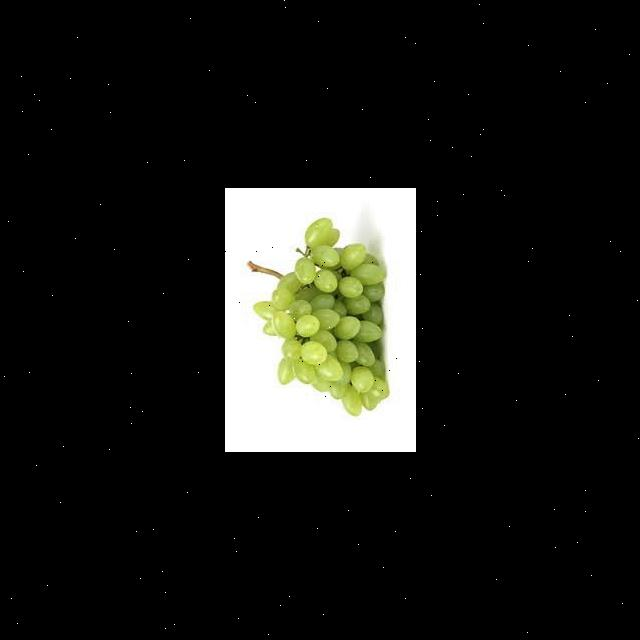grape: (245, 218, 388, 417)
